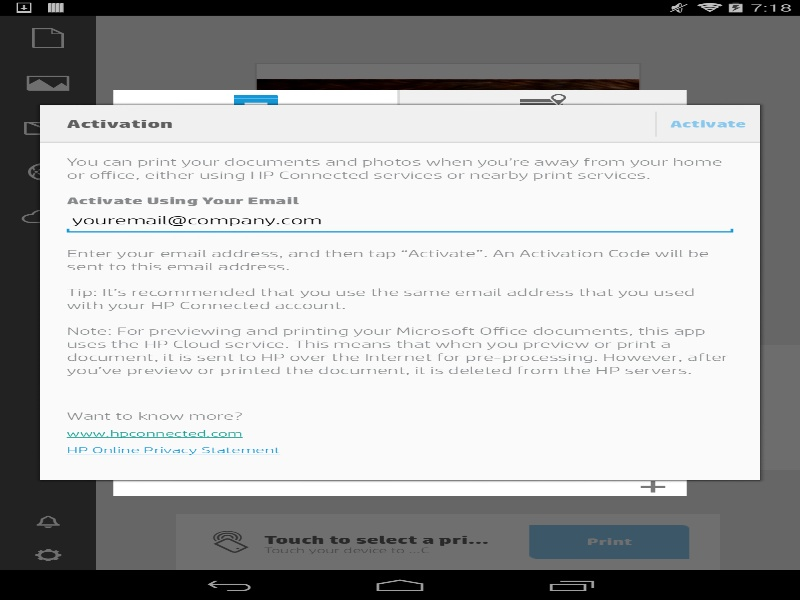Input: (66, 212, 733, 234)
